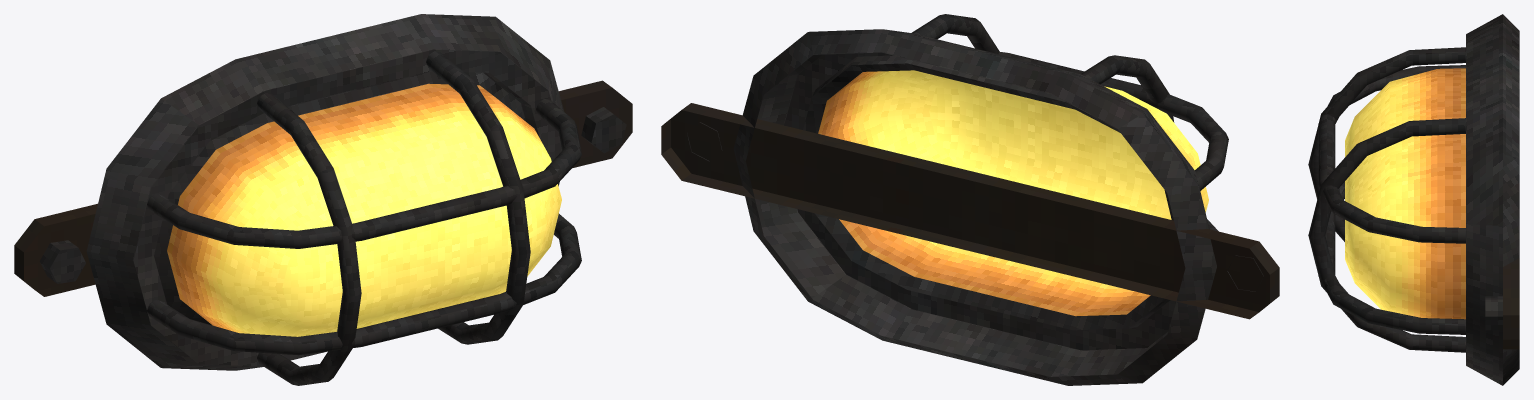
The model's file is lamp_2_on.glb.
The picture shows the model from 3 angles, left to right: view 1: azimuth 30°, elevation 25°; view 2: azimuth 150°, elevation 25°; view 3: azimuth 270°, elevation 25°; orthographic projection. The views are drawn at different scales.
Parts seen in each view (by area): view 1: lamp_2_on; view 2: lamp_2_on; view 3: lamp_2_on.
Part boxes in pixels (x1,y1,x2,y2): lamp_2_on: (14,14,632,385); lamp_2_on: (661,14,1279,385); lamp_2_on: (1308,14,1519,385).
Size of the model in its own units: 0.36 by 0.176 by 0.126.
Materials: 4 (4 with a texture image).
